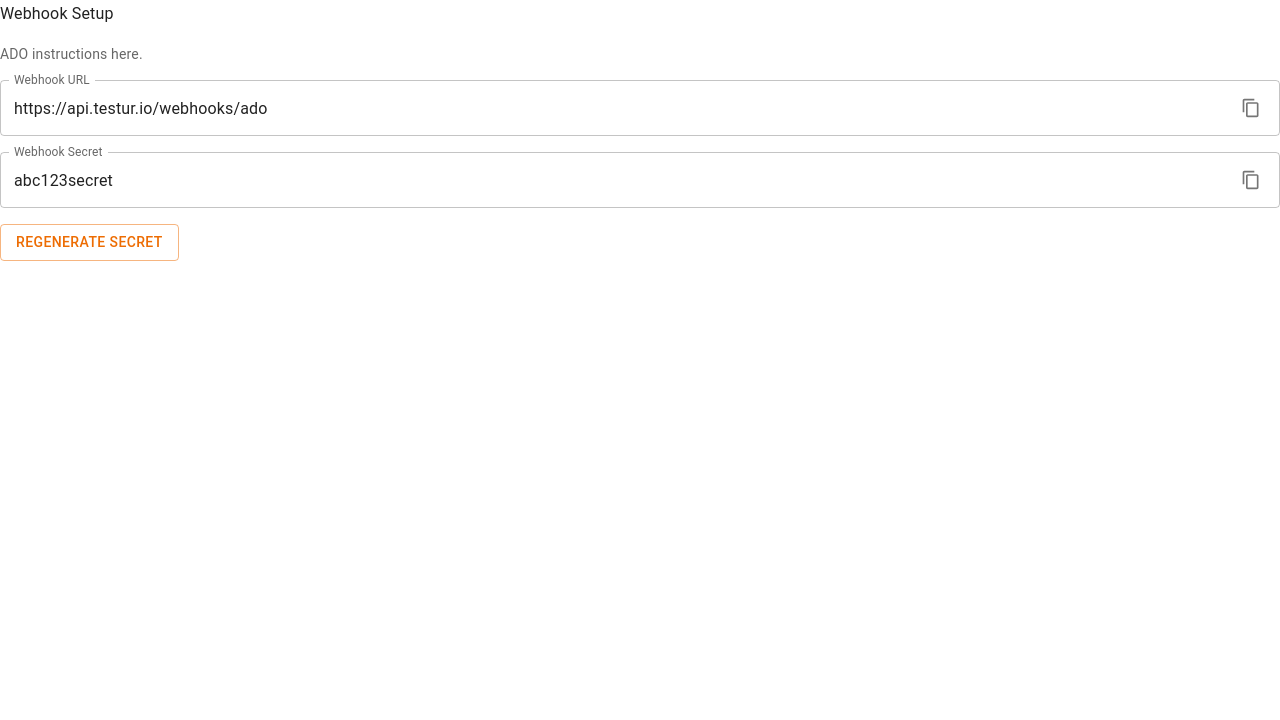
WebhookSetupPanel › opens confirmation dialog when regenerate is clicked
Click the button "Regenerate Secret" at x=89, y=242, box [0,224,179,260]
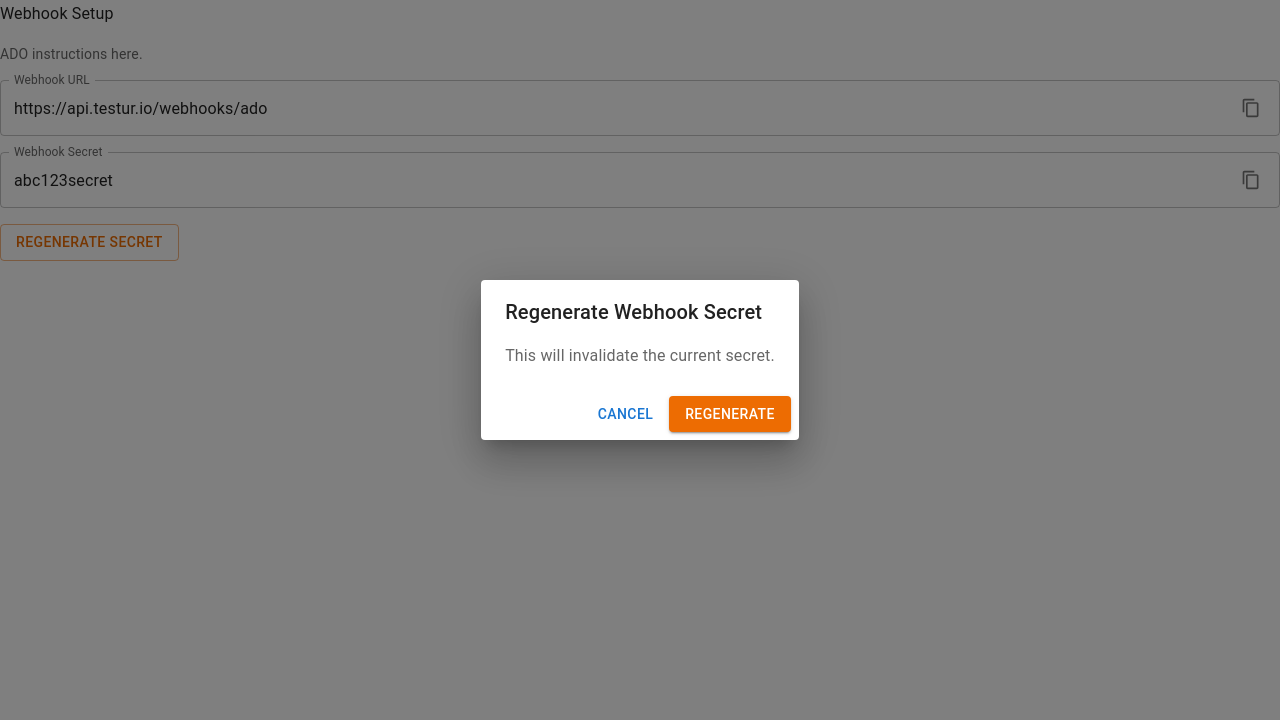
Expected: the heading "Regenerate Webhook Secret" is shown, [505,300,762,324]
Expected: the text "This will invalidate the current secret." is shown, [505,344,775,368]
